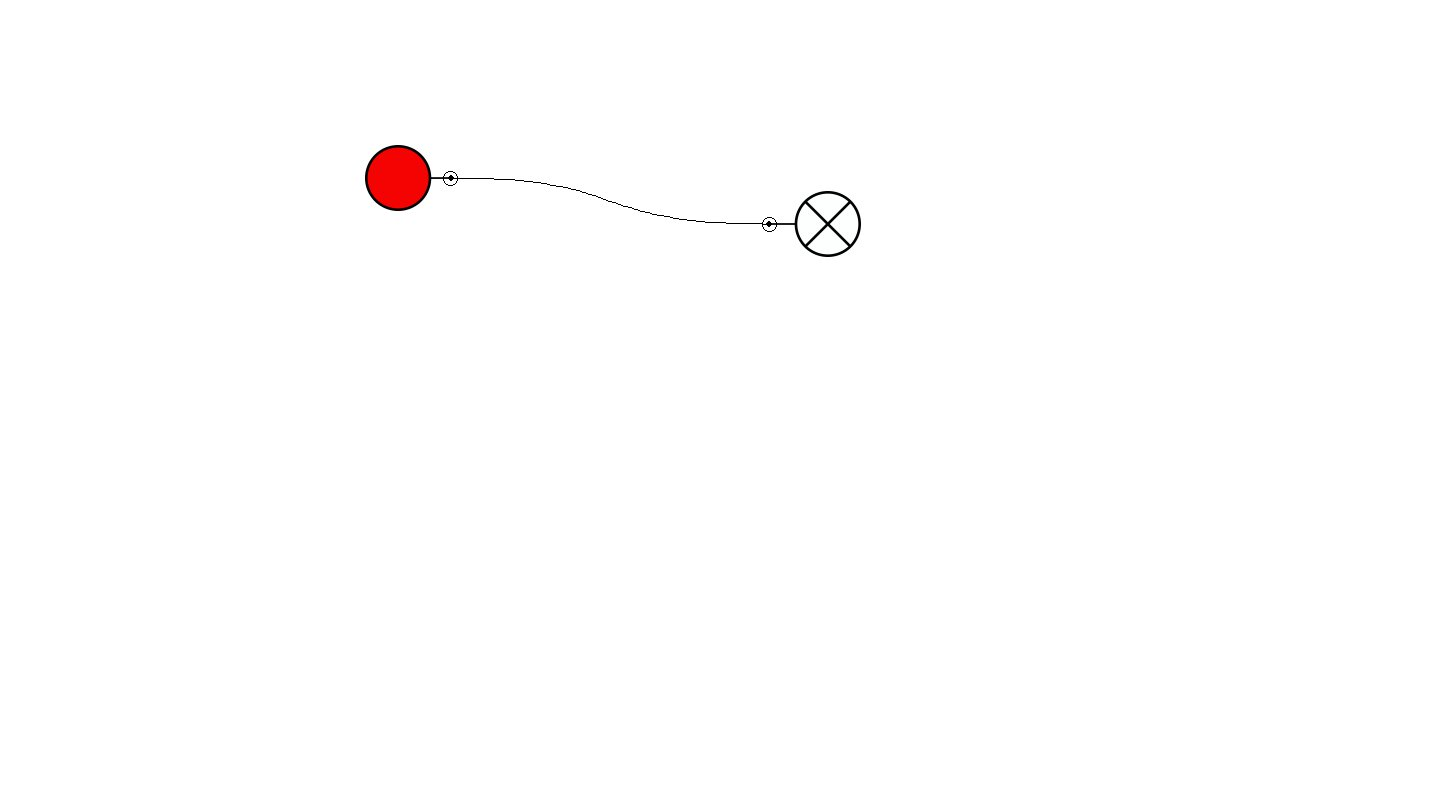bulb: (762, 191, 861, 257)
switch_False: (365, 145, 458, 211)
